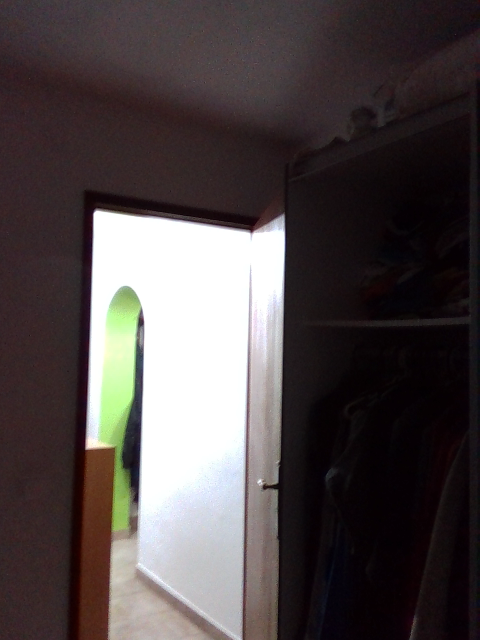open: (64, 174, 288, 639)
